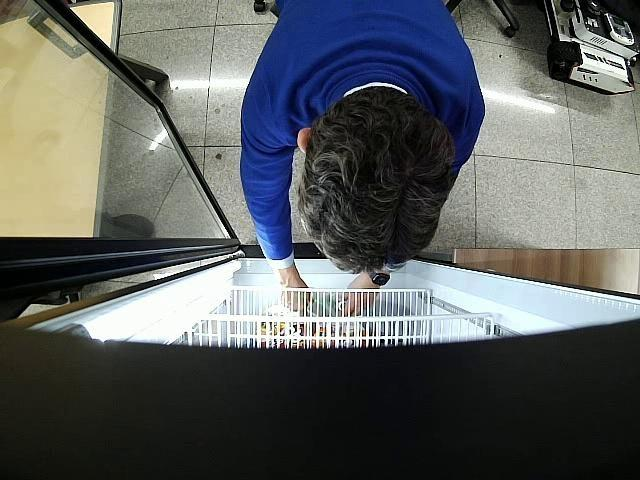18_trevi: (322, 294, 344, 314)
